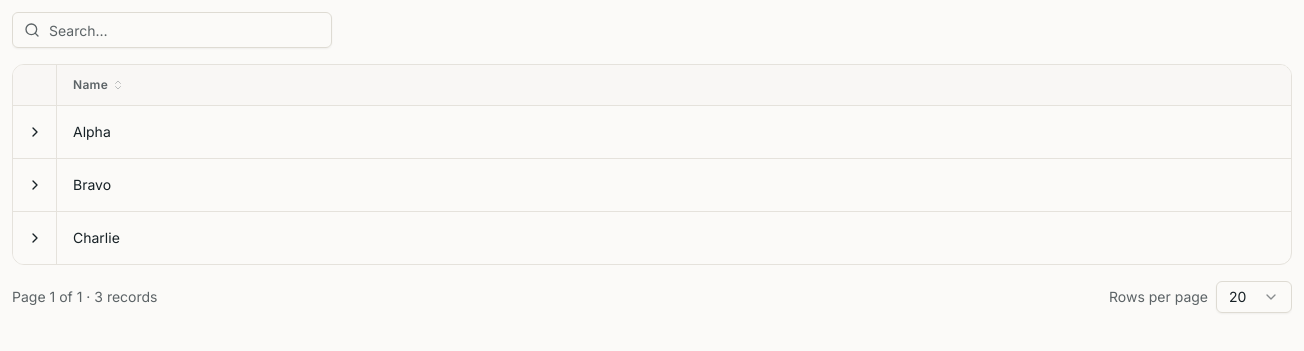
it: CustomTable › expands a row into its details, one row at a time, and closes it again
Click the button named "Show details of Bravo" at (35, 184), box [21,170,49,198]
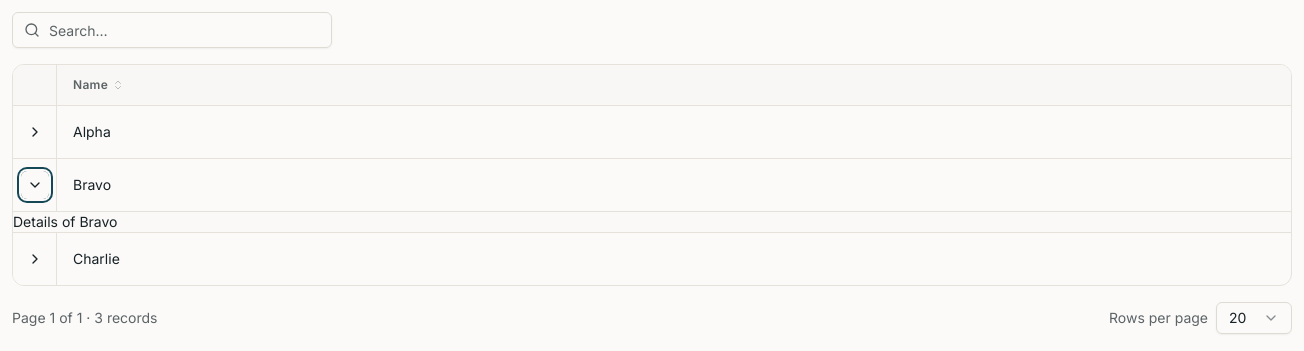
Expected: the text "Details of Bravo" is shown, [13,212,118,230]
Expected: the button named "Hide details of Bravo" is expanded
Expected: the row "Details of Bravo" is shown, [13,211,1291,232]
Click the button named "Hide details of Bravo" at (35, 184), box [21,170,49,198]
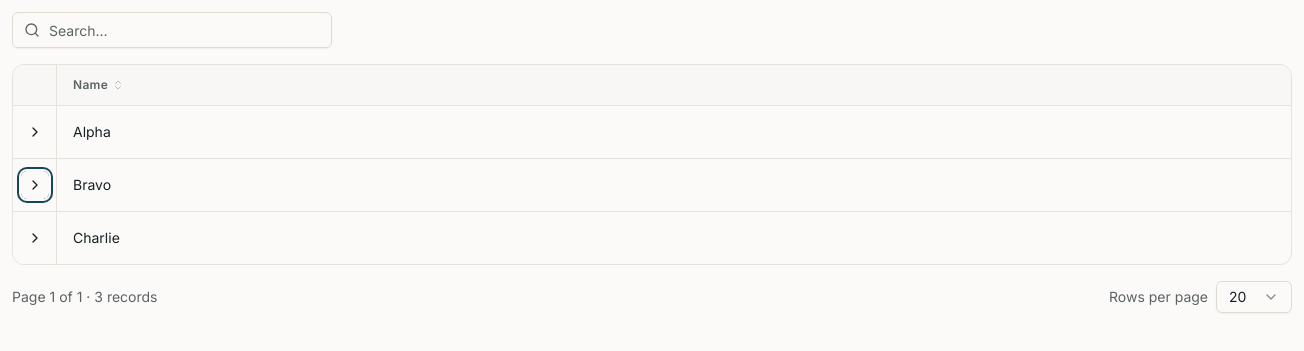
Expected: the text "Details of Bravo" is gone
